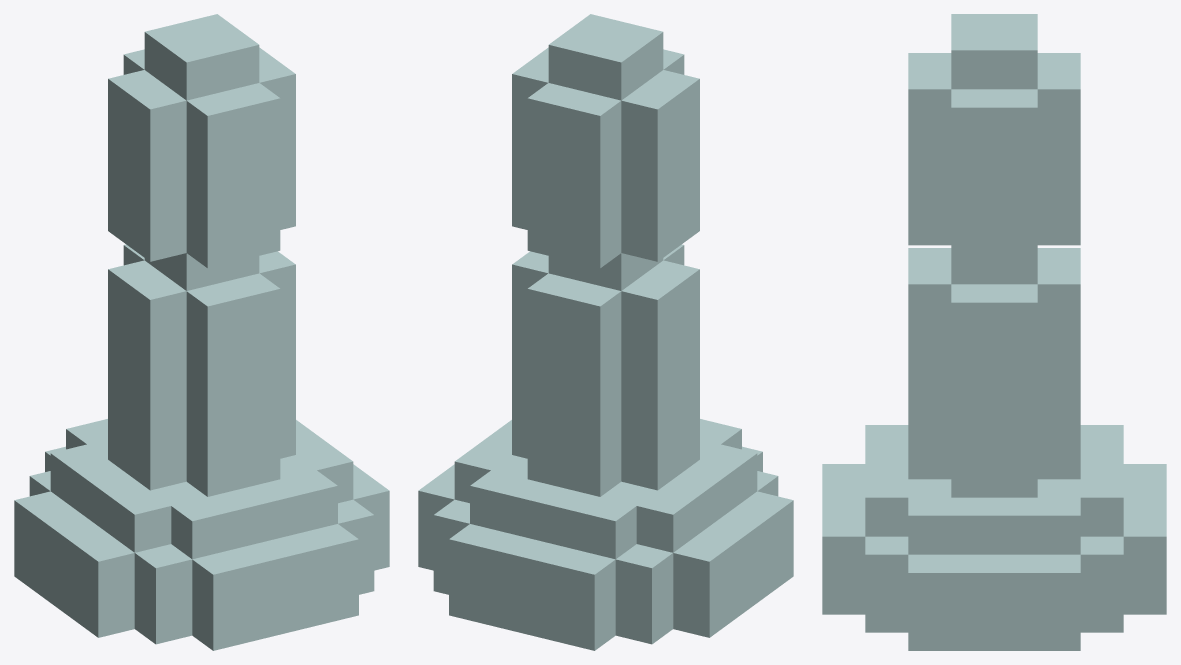
Rendered from WhiteBishop.obj.
3 views of the same model, side by side, from view 1: azimuth 30°, elevation 25°; view 2: azimuth 150°, elevation 25°; view 3: azimuth 270°, elevation 25° (orthographic). The views are drawn at different scales.
Size of the model in its own units: 0.8 by 1.4 by 0.8.
